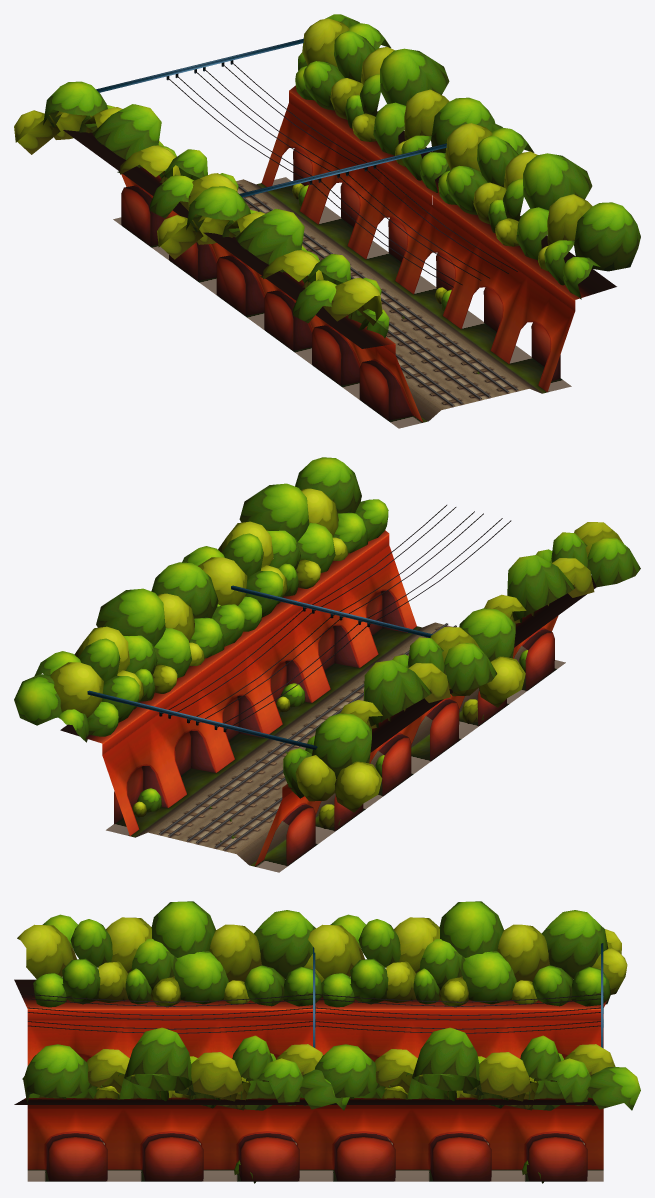
Rendered from road.fbx.
3 views of the same model, one above another, from view 1: azimuth 30°, elevation 25°; view 2: azimuth 150°, elevation 25°; view 3: azimuth 270°, elevation 25° (orthographic).
Visible parts, largest first — view 1: Road.obj; view 2: Road.obj; view 3: Road.obj.
Boxes of the visible parts, x1,y1,x2,y2 form: Road.obj: (14,14,640,428); Road.obj: (14,457,640,872); Road.obj: (14,901,640,1183).
Size of the model in its own units: 26039 by 12377 by 39189.
1 material, 1 textured.
